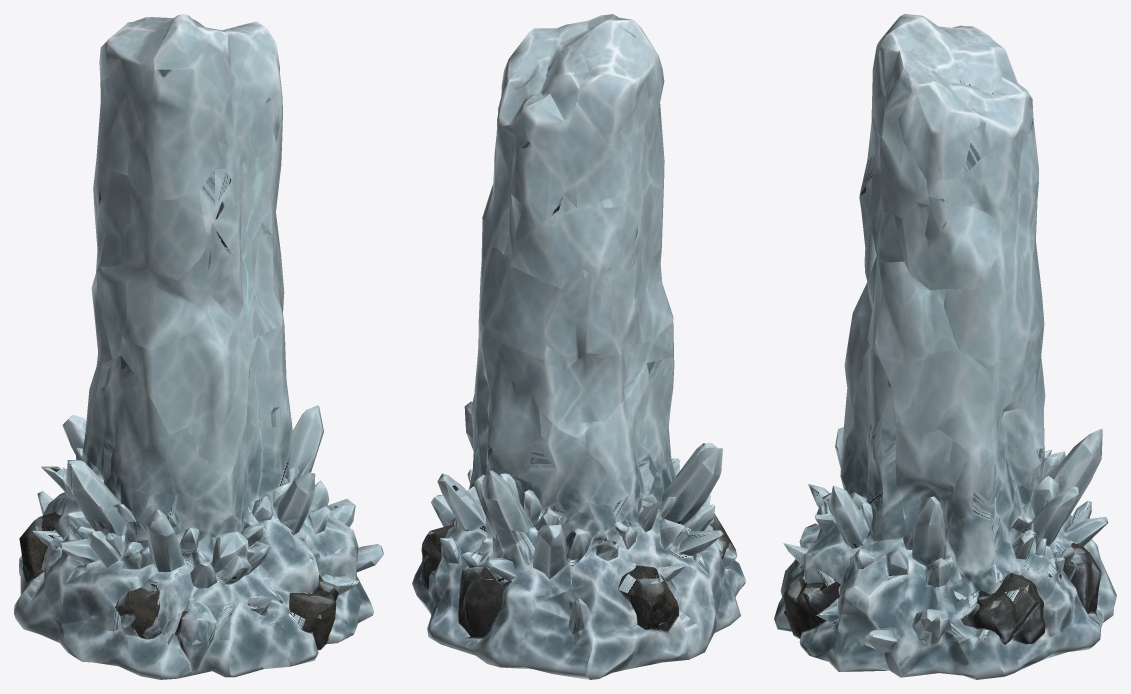
File: prop_icepillar-high.glb
3 views of the same model, side by side, from view 1: azimuth 30°, elevation 25°; view 2: azimuth 150°, elevation 25°; view 3: azimuth 270°, elevation 25° (orthographic). The views are drawn at different scales.
Parts seen in each view (by area): view 1: Mesh_0; view 2: Mesh_0; view 3: Mesh_0.
Part boxes in pixels (box(x1,y1,x2,y2)): Mesh_0: box(14, 14, 383, 679); Mesh_0: box(412, 14, 745, 679); Mesh_0: box(774, 14, 1116, 679).
Size of the model in its own units: 1.01 by 1.9 by 1.01.
Materials: 1 (1 with a texture image).
